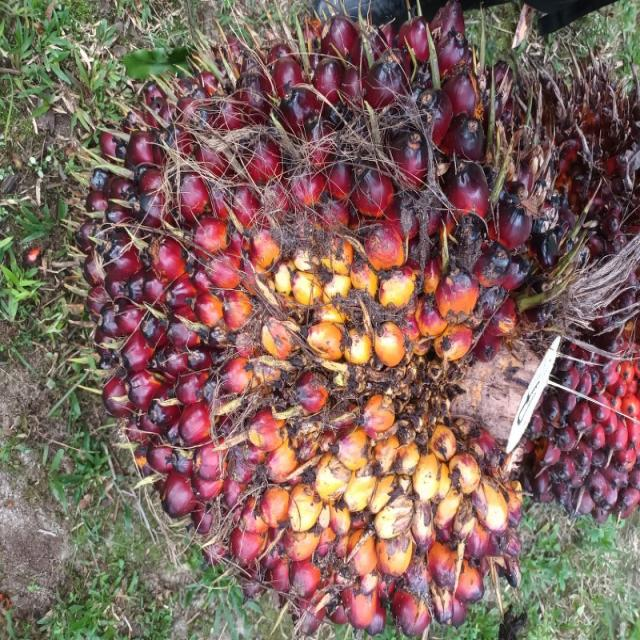fraksi 1: (83, 0, 606, 620)
